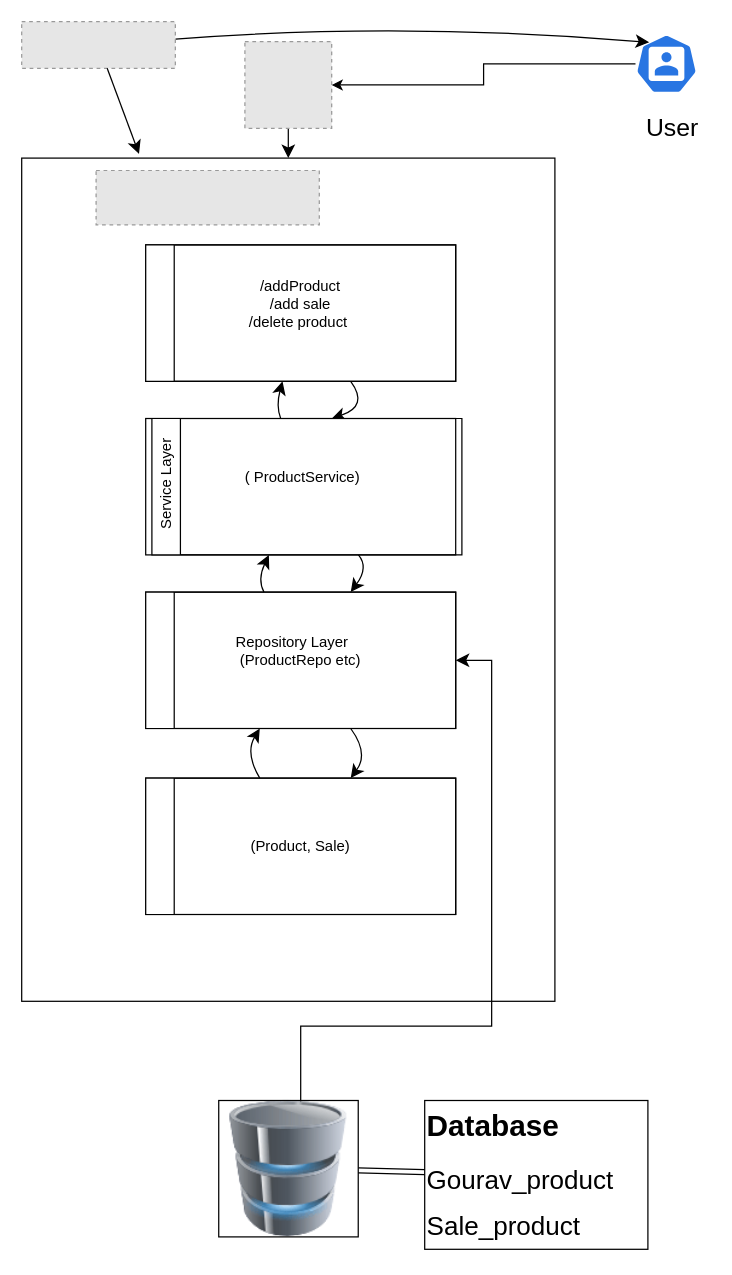
The diagram is 732 pixels wide and 1275 high, and some of its shapes have lost their labels. Grey dashed boxes stand in for pictures. Here are the shapes that lost their labels. From the top down, the box of each, then its label:
(144, 244, 456, 381): Controller
(144, 591, 456, 728): Repository Layer
(144, 777, 456, 914): Models
